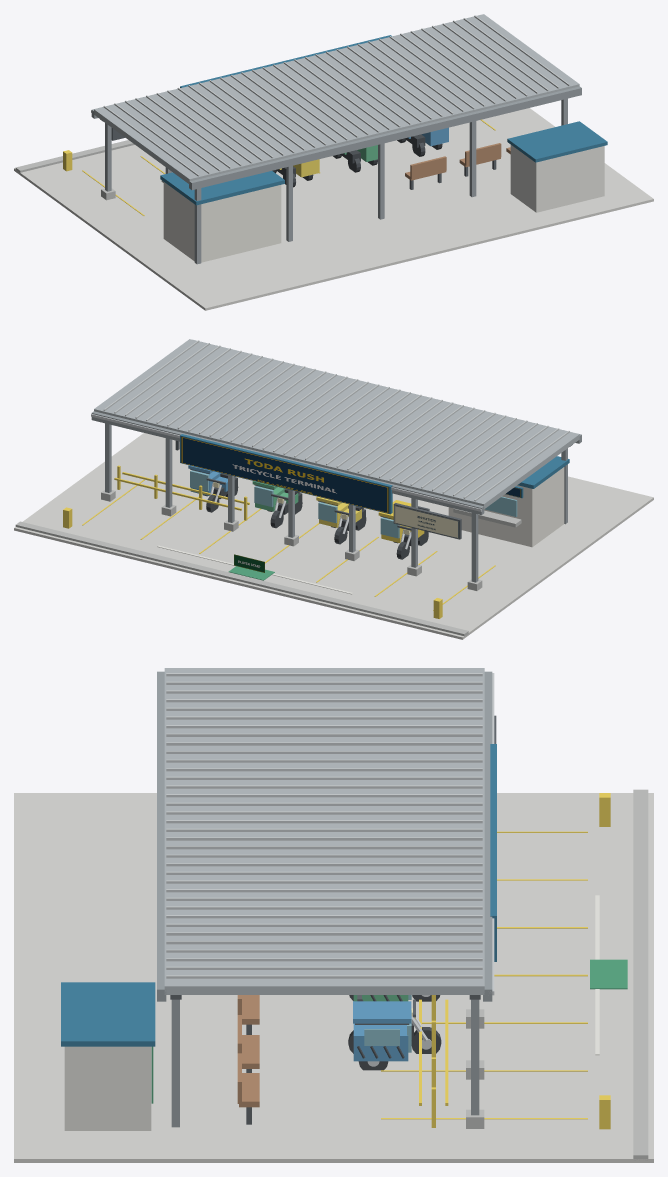
Rendered from TODA_Rush_Tricycle_Terminal.glb.
3 views of the same model, one above another, from view 1: azimuth 30°, elevation 25°; view 2: azimuth 150°, elevation 25°; view 3: azimuth 270°, elevation 25° (orthographic). The views are drawn at different scales.
Visible parts, largest first — view 1: Terminal_Concrete_Pad, Shed_Roof_Base, Dispatch_Booth_Main, Utility_Room, Roof_Back_Edge, Utility_Room_Roof, Dispatch_Booth_Roof, Terminal_Front_Curb, Back_Steel_Post_3, Back_Steel_Post_0, Passenger_Bench_Back_0, Back_Steel_Post_2 (+4 smaller); view 2: Terminal_Concrete_Pad, Shed_Roof_Base, TODA_RUSH_TERMINAL_SIGN, Dispatch_Booth_Main, Terminal_Front_Curb, Roof_Front_Edge, Route_Board_Front, Terminal_Sign_Backplate, Front_Gutter, Dispatch_Booth_Roof, Front_Steel_Post_0, Front_Steel_Post_5 (+3 smaller); view 3: Terminal_Concrete_Pad, Shed_Roof_Base, Utility_Room, Utility_Room_Roof, Terminal_Front_Curb, Roof_Back_Edge, Roof_Front_Edge, Tricycle_Blue_04_Sidecar_Roof, Tricycle_Blue_04_Sidecar_Lower, Terminal_Sign_Backplate, Roof_Corrugation_-9.50, Roof_Corrugation_-8.96 (+37 smaller).
Boxes of the visible parts, x1,y1,x2,y2 form: Terminal_Concrete_Pad: (14,108,653,310); Shed_Roof_Base: (94,14,579,184); Dispatch_Booth_Main: (163,182,281,262); Utility_Room: (510,145,604,212); Roof_Back_Edge: (189,86,581,190); Utility_Room_Roof: (507,121,607,162); Dispatch_Booth_Roof: (160,171,284,205); Terminal_Front_Curb: (15,140,134,172); Back_Steel_Post_3: (469,121,476,197); Back_Steel_Post_0: (194,188,201,264); Passenger_Bench_Back_0: (410,156,446,178); Back_Steel_Post_2: (378,143,384,219); Terminal_Concrete_Pad: (14,433,653,639); Shed_Roof_Base: (94,339,579,508); TODA_RUSH_TERMINAL_SIGN: (181,436,388,513); Dispatch_Booth_Main: (448,467,564,547); Terminal_Front_Curb: (15,521,468,636); Roof_Front_Edge: (91,411,484,514); Route_Board_Front: (394,505,458,538); Terminal_Sign_Backplate: (180,434,392,514); Front_Gutter: (91,414,481,511); Dispatch_Booth_Roof: (517,456,569,488); Front_Steel_Post_0: (471,513,478,582); Front_Steel_Post_5: (165,438,172,507); Terminal_Concrete_Pad: (14,793,653,1162); Shed_Roof_Base: (164,668,484,994); Utility_Room: (64,1046,151,1130); Utility_Room_Roof: (61,982,155,1046); Terminal_Front_Curb: (633,789,648,1160); Roof_Back_Edge: (157,671,166,1001); Roof_Front_Edge: (483,671,492,1001); Tricycle_Blue_04_Sidecar_Roof: (353,1001,411,1023); Tricycle_Blue_04_Sidecar_Lower: (353,1023,408,1061); Terminal_Sign_Backplate: (490,744,496,961); Roof_Corrugation_-9.50: (166,673,482,676); Roof_Corrugation_-8.96: (166,681,482,684).
Size of the model in its own units: 23 by 4.55 by 17.
204 materials, 5 textured.
